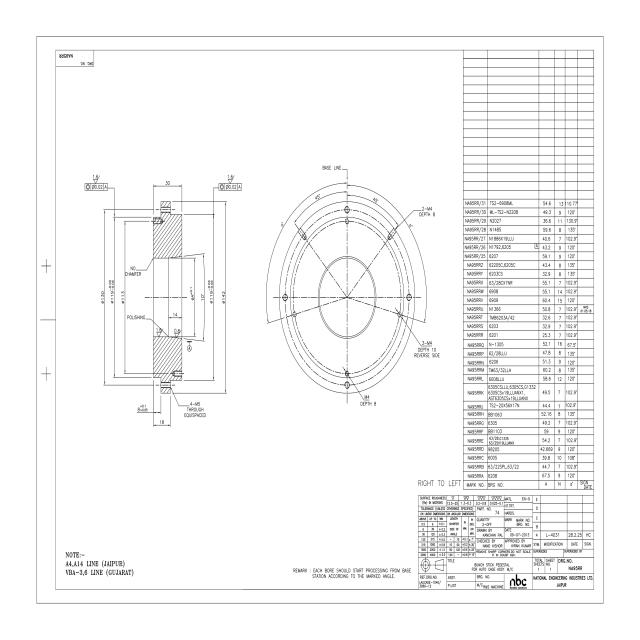dimension: (413, 340, 441, 359), (184, 401, 206, 418), (359, 394, 377, 407), (419, 206, 436, 218), (207, 280, 214, 306), (107, 280, 114, 305), (136, 403, 148, 412), (190, 287, 196, 301), (100, 290, 105, 304), (221, 290, 226, 304), (121, 290, 125, 304), (372, 197, 379, 204), (314, 192, 320, 200), (158, 419, 165, 425), (200, 292, 204, 302), (165, 180, 171, 186), (172, 312, 178, 318), (280, 221, 284, 228), (408, 223, 412, 227)
